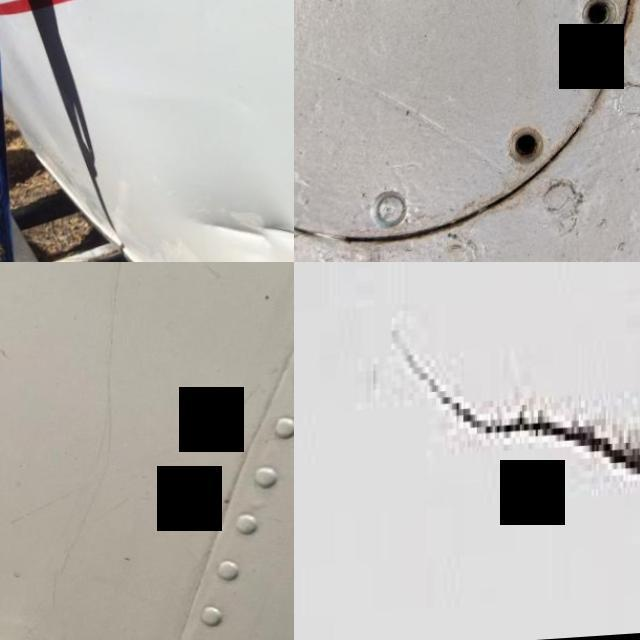Crack: (375, 323, 640, 564)
Dent: (194, 212, 294, 254)
Missing_Fastener: (478, 110, 558, 190), (564, 0, 639, 57)
